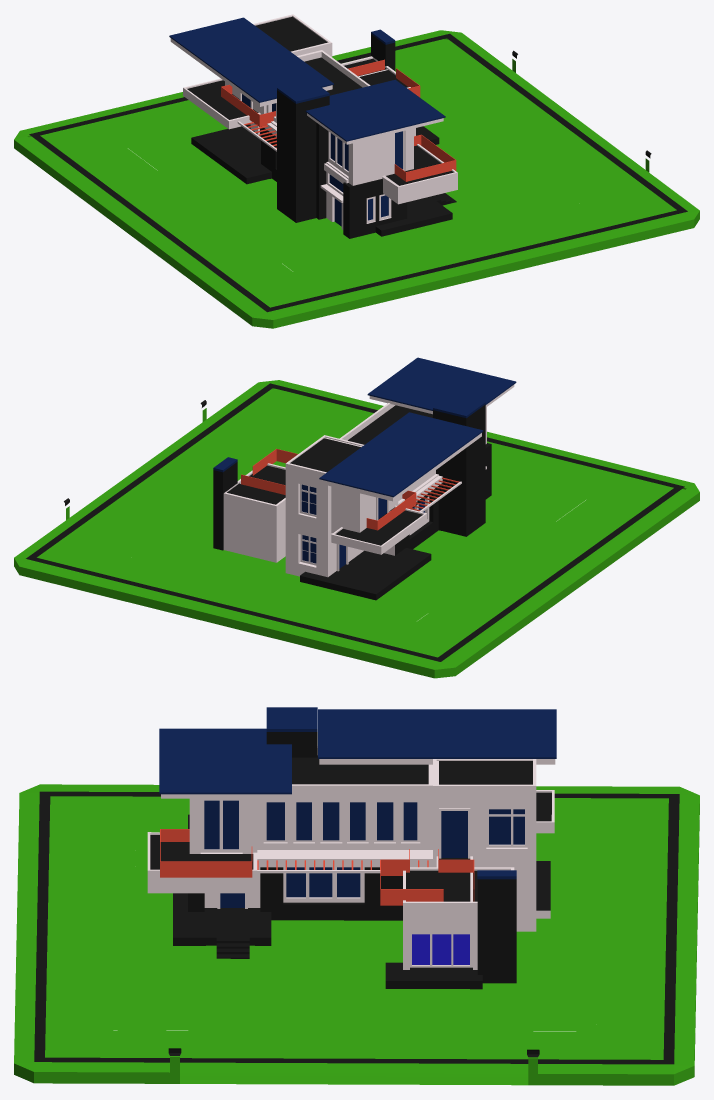
The model's file is farm 3.fbx.
The picture shows the model from 3 angles, top to bottom: view 1: azimuth 30°, elevation 25°; view 2: azimuth 150°, elevation 25°; view 3: azimuth 270°, elevation 25°; orthographic projection. The views are drawn at different scales.
Visible parts, largest first — view 1: FloorTile.009, Cube_0.006, Cube_0.005, Cube_0, FloorTileBoundry.009, Cube_0.007, Cubo_0, Cube_0.009; view 2: FloorTile.009, Cube_0, Cube_0.005, Cube_0.006, FloorTileBoundry.009, Cube_0.007, Cubo_0, Cube_0.009; view 3: FloorTile.009, Cube_0, Cube_0.005, Cube_0.006, FloorTileBoundry.009, Cube_0.009, Cube_0.007, Cubo_0, Cube_0.010.
Boxes of the visible parts, <box> form: FloorTile.009: <box>14,30,699,328</box>; Cube_0.006: <box>191,34,456,238</box>; Cube_0.005: <box>169,17,445,141</box>; Cube_0: <box>170,14,457,229</box>; FloorTileBoundry.009: <box>29,33,687,312</box>; Cube_0.007: <box>187,16,407,119</box>; Cubo_0: <box>221,59,456,181</box>; Cube_0.009: <box>242,94,402,226</box>; FloorTile.009: <box>14,380,699,678</box>; Cube_0: <box>223,384,514,577</box>; Cube_0.005: <box>213,357,516,497</box>; Cube_0.006: <box>213,404,491,600</box>; FloorTileBoundry.009: <box>26,383,684,661</box>; Cube_0.007: <box>227,405,432,545</box>; Cubo_0: <box>241,448,416,530</box>; Cube_0.009: <box>301,484,424,568</box>; FloorTile.009: <box>14,784,699,1085</box>; Cube_0: <box>147,746,555,969</box>; Cube_0.005: <box>159,707,556,879</box>; Cube_0.006: <box>150,732,550,989</box>; FloorTileBoundry.009: <box>34,791,679,1064</box>; Cube_0.009: <box>204,800,524,907</box>; Cube_0.007: <box>292,755,551,901</box>; Cubo_0: <box>160,829,474,905</box>; Cube_0.010: <box>412,934,469,964</box>.
Bounding box in the file's own units: 409487 × 113395 × 408556.
